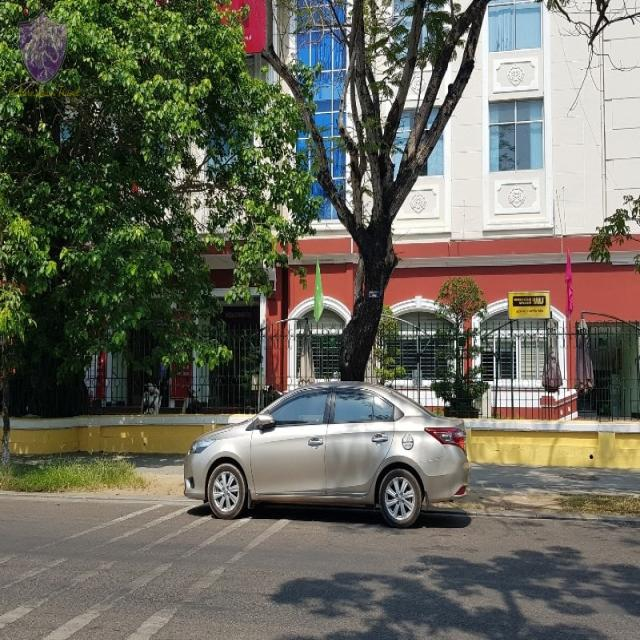car: (182, 386, 471, 541)
